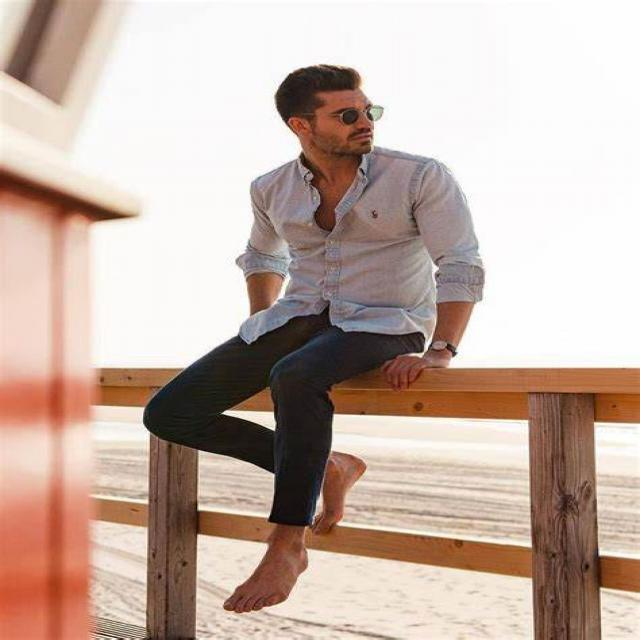No_BreathingApparatus: (298, 97, 383, 154)
No_Glove: (377, 347, 459, 387)
No_Helmet: (270, 56, 381, 102)
No_Shoe: (225, 536, 317, 612), (315, 457, 363, 534)
